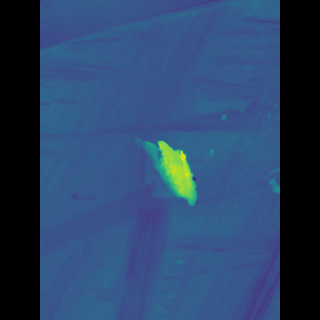Loch: (137, 132, 191, 210)
